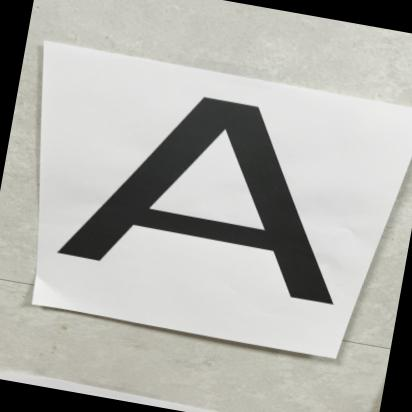seat: (38, 59, 396, 344)
